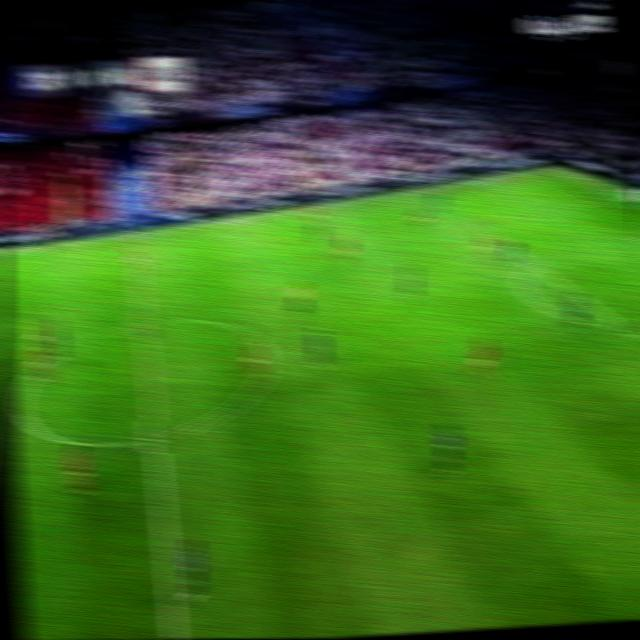bigarea_top_inner: (464, 213, 485, 230)
bigarea_top_outter: (600, 188, 624, 205)
bottom_arc_area_intersection: (613, 318, 637, 337)
corner: (537, 161, 564, 177)
halfcircle_bottom: (137, 420, 169, 452)
halfcircle_top: (127, 310, 160, 337)
midline_top_intersection: (121, 229, 149, 246)
smallarea_top_inner: (621, 229, 640, 244)
top_arc_area_intersection: (521, 255, 545, 272)
